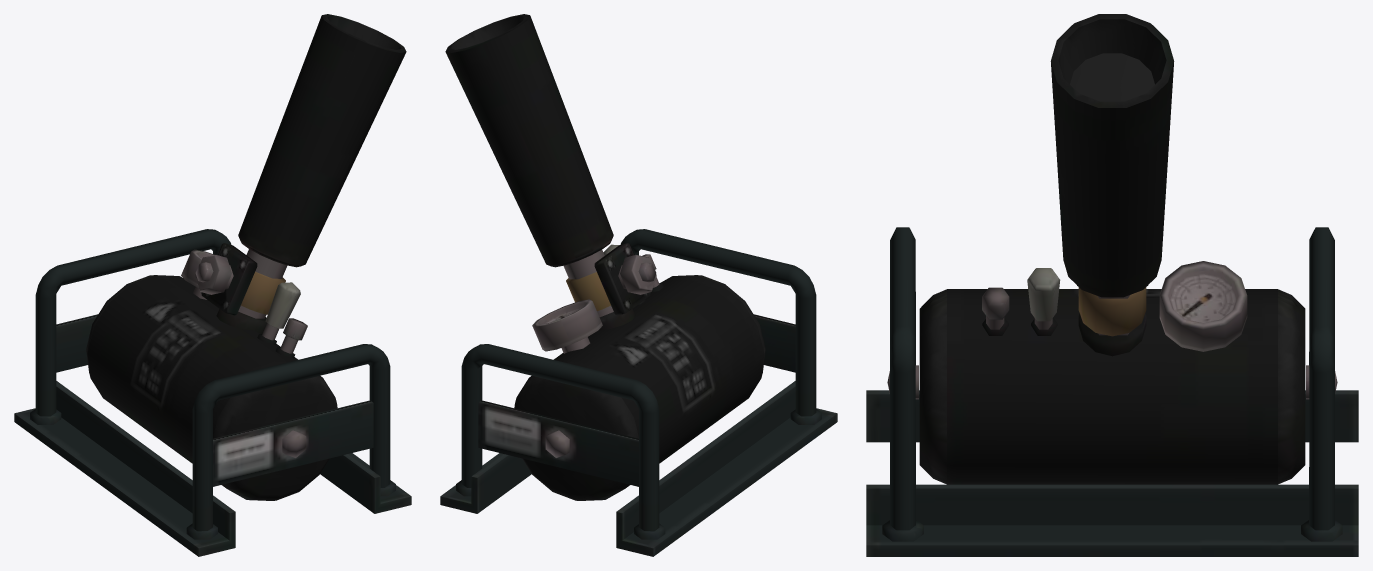
The picture shows the model from 3 angles, left to right: view 1: azimuth 30°, elevation 25°; view 2: azimuth 150°, elevation 25°; view 3: azimuth 270°, elevation 25°; orthographic projection. The views are drawn at different scales.
Bounding box in the file's own units: 7.31 × 9.82 × 7.98.
1 material, 1 textured.
